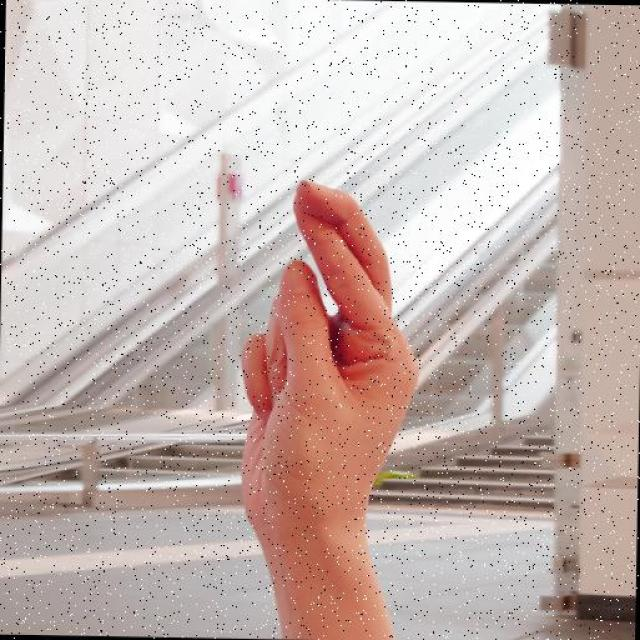R: (232, 175, 428, 563)
